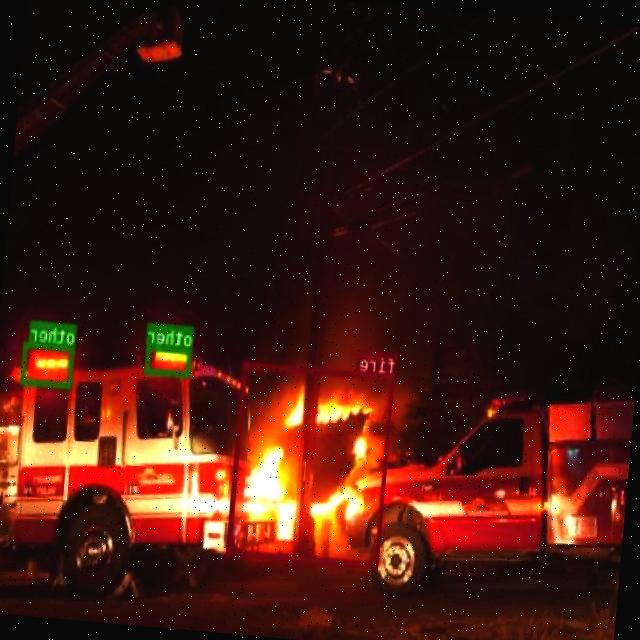fire: (226, 361, 396, 568)
